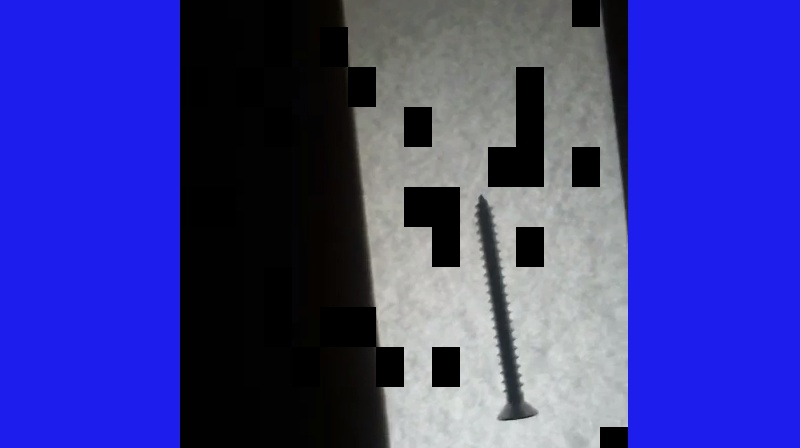S002: (472, 189, 541, 422)
